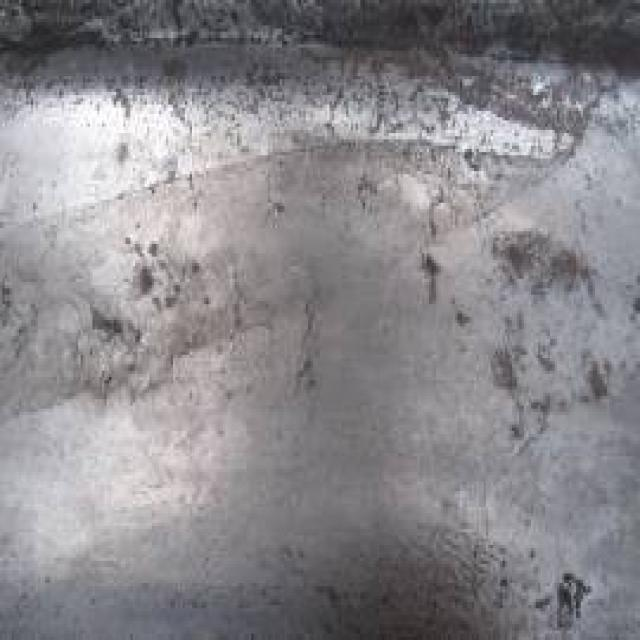Peeling: (493, 233, 603, 307), (551, 568, 589, 626), (488, 344, 521, 396), (582, 355, 611, 400), (95, 307, 133, 340), (421, 249, 442, 308), (132, 263, 157, 298)
